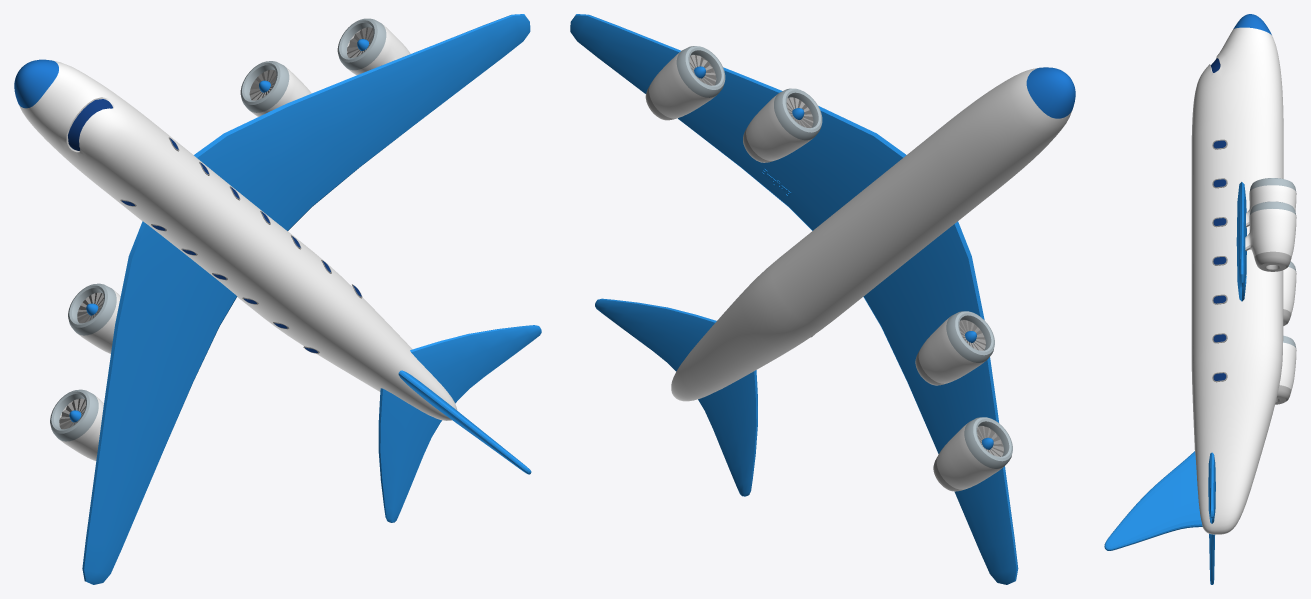
Rendered from airplane.glb.
3 views of the same model, side by side, from view 1: azimuth 30°, elevation 25°; view 2: azimuth 150°, elevation 25°; view 3: azimuth 270°, elevation 25° (orthographic). The views are drawn at different scales.
Parts seen in each view (by area): view 1: Cube.789; view 2: Cube.789; view 3: Cube.789.
Boxes of the visible parts, left/top/right/bottom form: Cube.789: left=14, top=14, right=541, bottom=584; Cube.789: left=570, top=14, right=1075, bottom=584; Cube.789: left=1104, top=14, right=1296, bottom=584.
Size of the model in its own units: 2.33 by 2.33 by 0.9228.
Materials: 1 (1 with a texture image).
